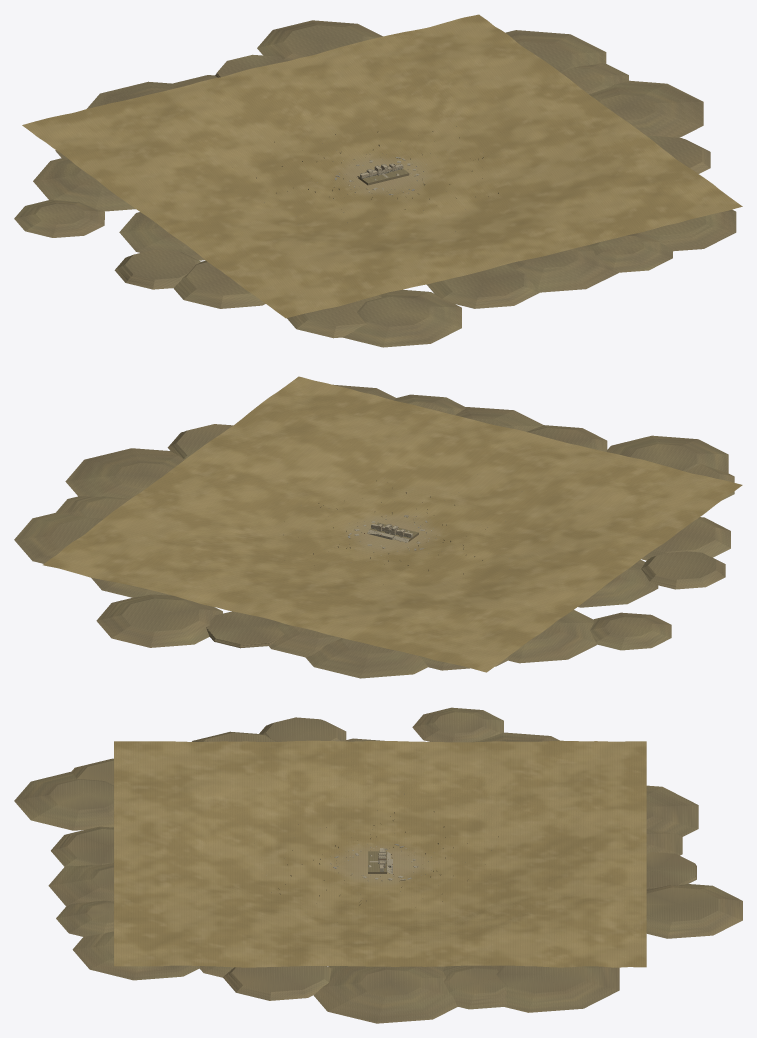
The model's file is hattusa-aslanli-kapi-baked.glb.
The picture shows the model from 3 angles, top to bottom: view 1: azimuth 30°, elevation 25°; view 2: azimuth 150°, elevation 25°; view 3: azimuth 270°, elevation 25°; orthographic projection. The views are drawn at different scales.
Parts seen in each view (by area): view 1: hattusa-aslanli-kapi-terrain, hattusa-aslanli-kapi-ground, hattusa-aslanli-kapi-near; view 2: hattusa-aslanli-kapi-terrain, hattusa-aslanli-kapi-ground, hattusa-aslanli-kapi-near; view 3: hattusa-aslanli-kapi-terrain, hattusa-aslanli-kapi-ground, hattusa-aslanli-kapi-near.
Boxes of the visible parts, x1,y1,x2,y2 form: hattusa-aslanli-kapi-terrain: [22, 14, 742, 318]; hattusa-aslanli-kapi-ground: [14, 20, 736, 347]; hattusa-aslanli-kapi-near: [76, 94, 701, 326]; hattusa-aslanli-kapi-terrain: [43, 376, 742, 672]; hattusa-aslanli-kapi-ground: [14, 384, 734, 678]; hattusa-aslanli-kapi-near: [115, 402, 719, 639]; hattusa-aslanli-kapi-terrain: [114, 740, 646, 967]; hattusa-aslanli-kapi-ground: [14, 707, 742, 1023]; hattusa-aslanli-kapi-near: [49, 717, 420, 995].
Bounding box in the file's own units: 1546 × 32.11 × 1507.
Materials: 16 (13 with a texture image).
